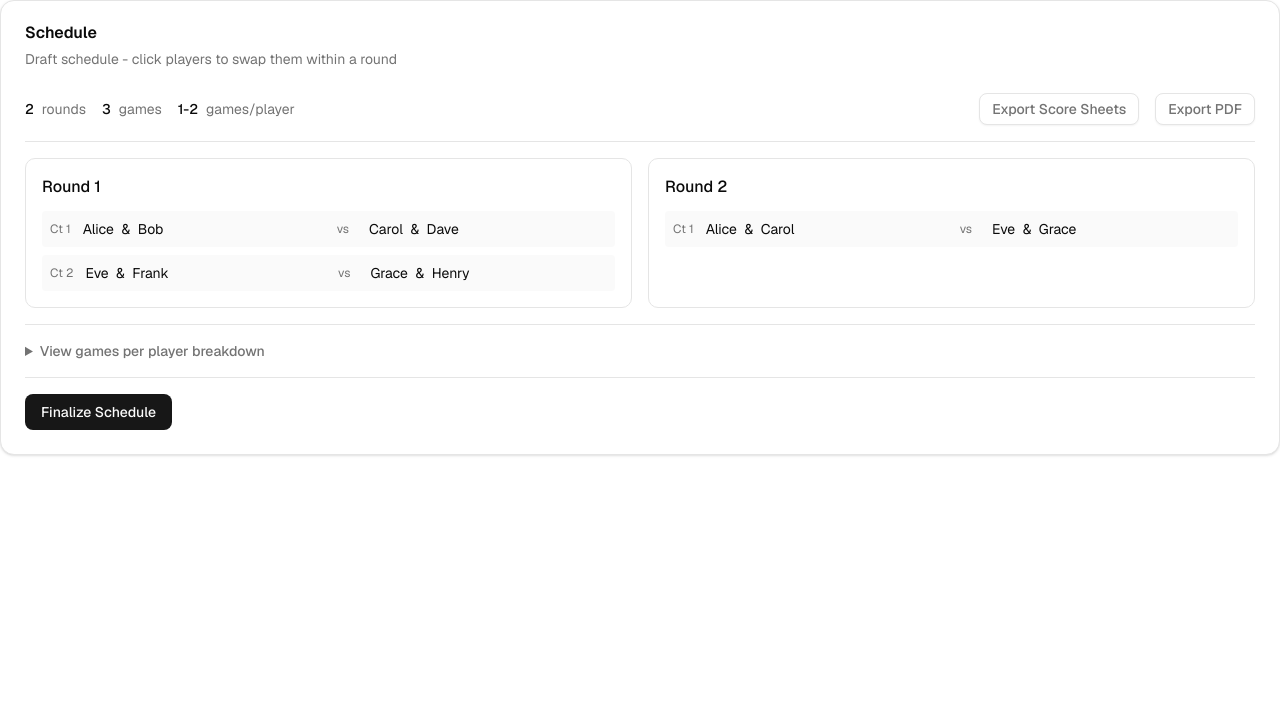
Test: ScheduleViewer - Swap Mode › clicking Cancel exits swap mode and clears selection
This screenshot has width=1280, height=720.
Note: Enter swap mode
Click the 1st button "Alice" at coordinates (98, 229), box [83,220,114,238]
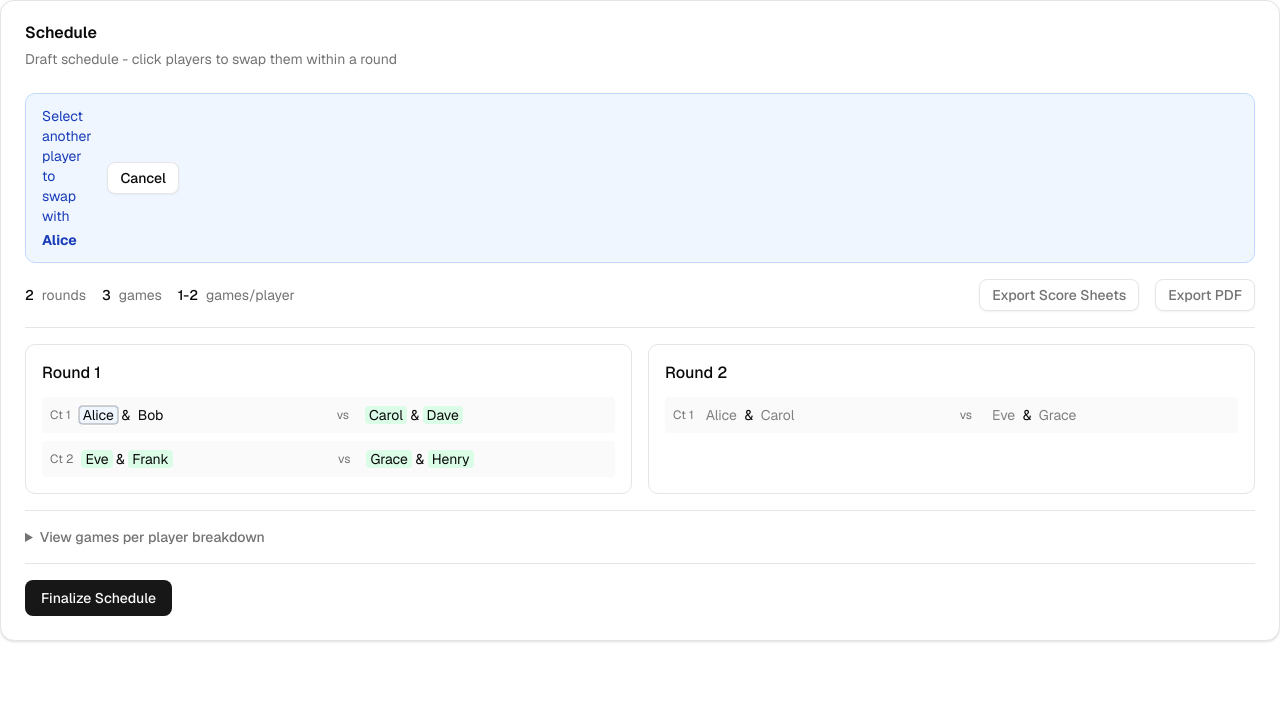
Check: the element with test id "swap-banner" is shown, box [25,93,1255,263]
Note: Click Cancel
Click the button with test id "cancel-swap-button" at coordinates (143, 178), box [108,162,179,194]
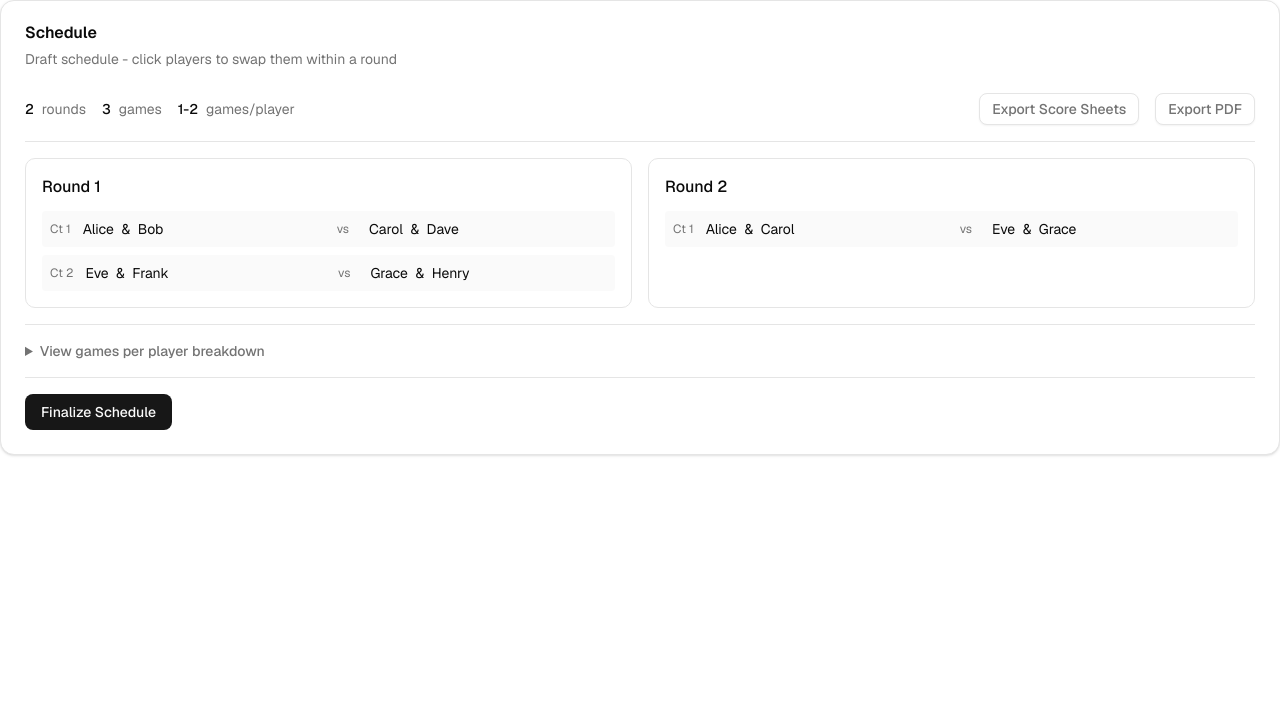
Check: the element with test id "swap-banner" is gone
